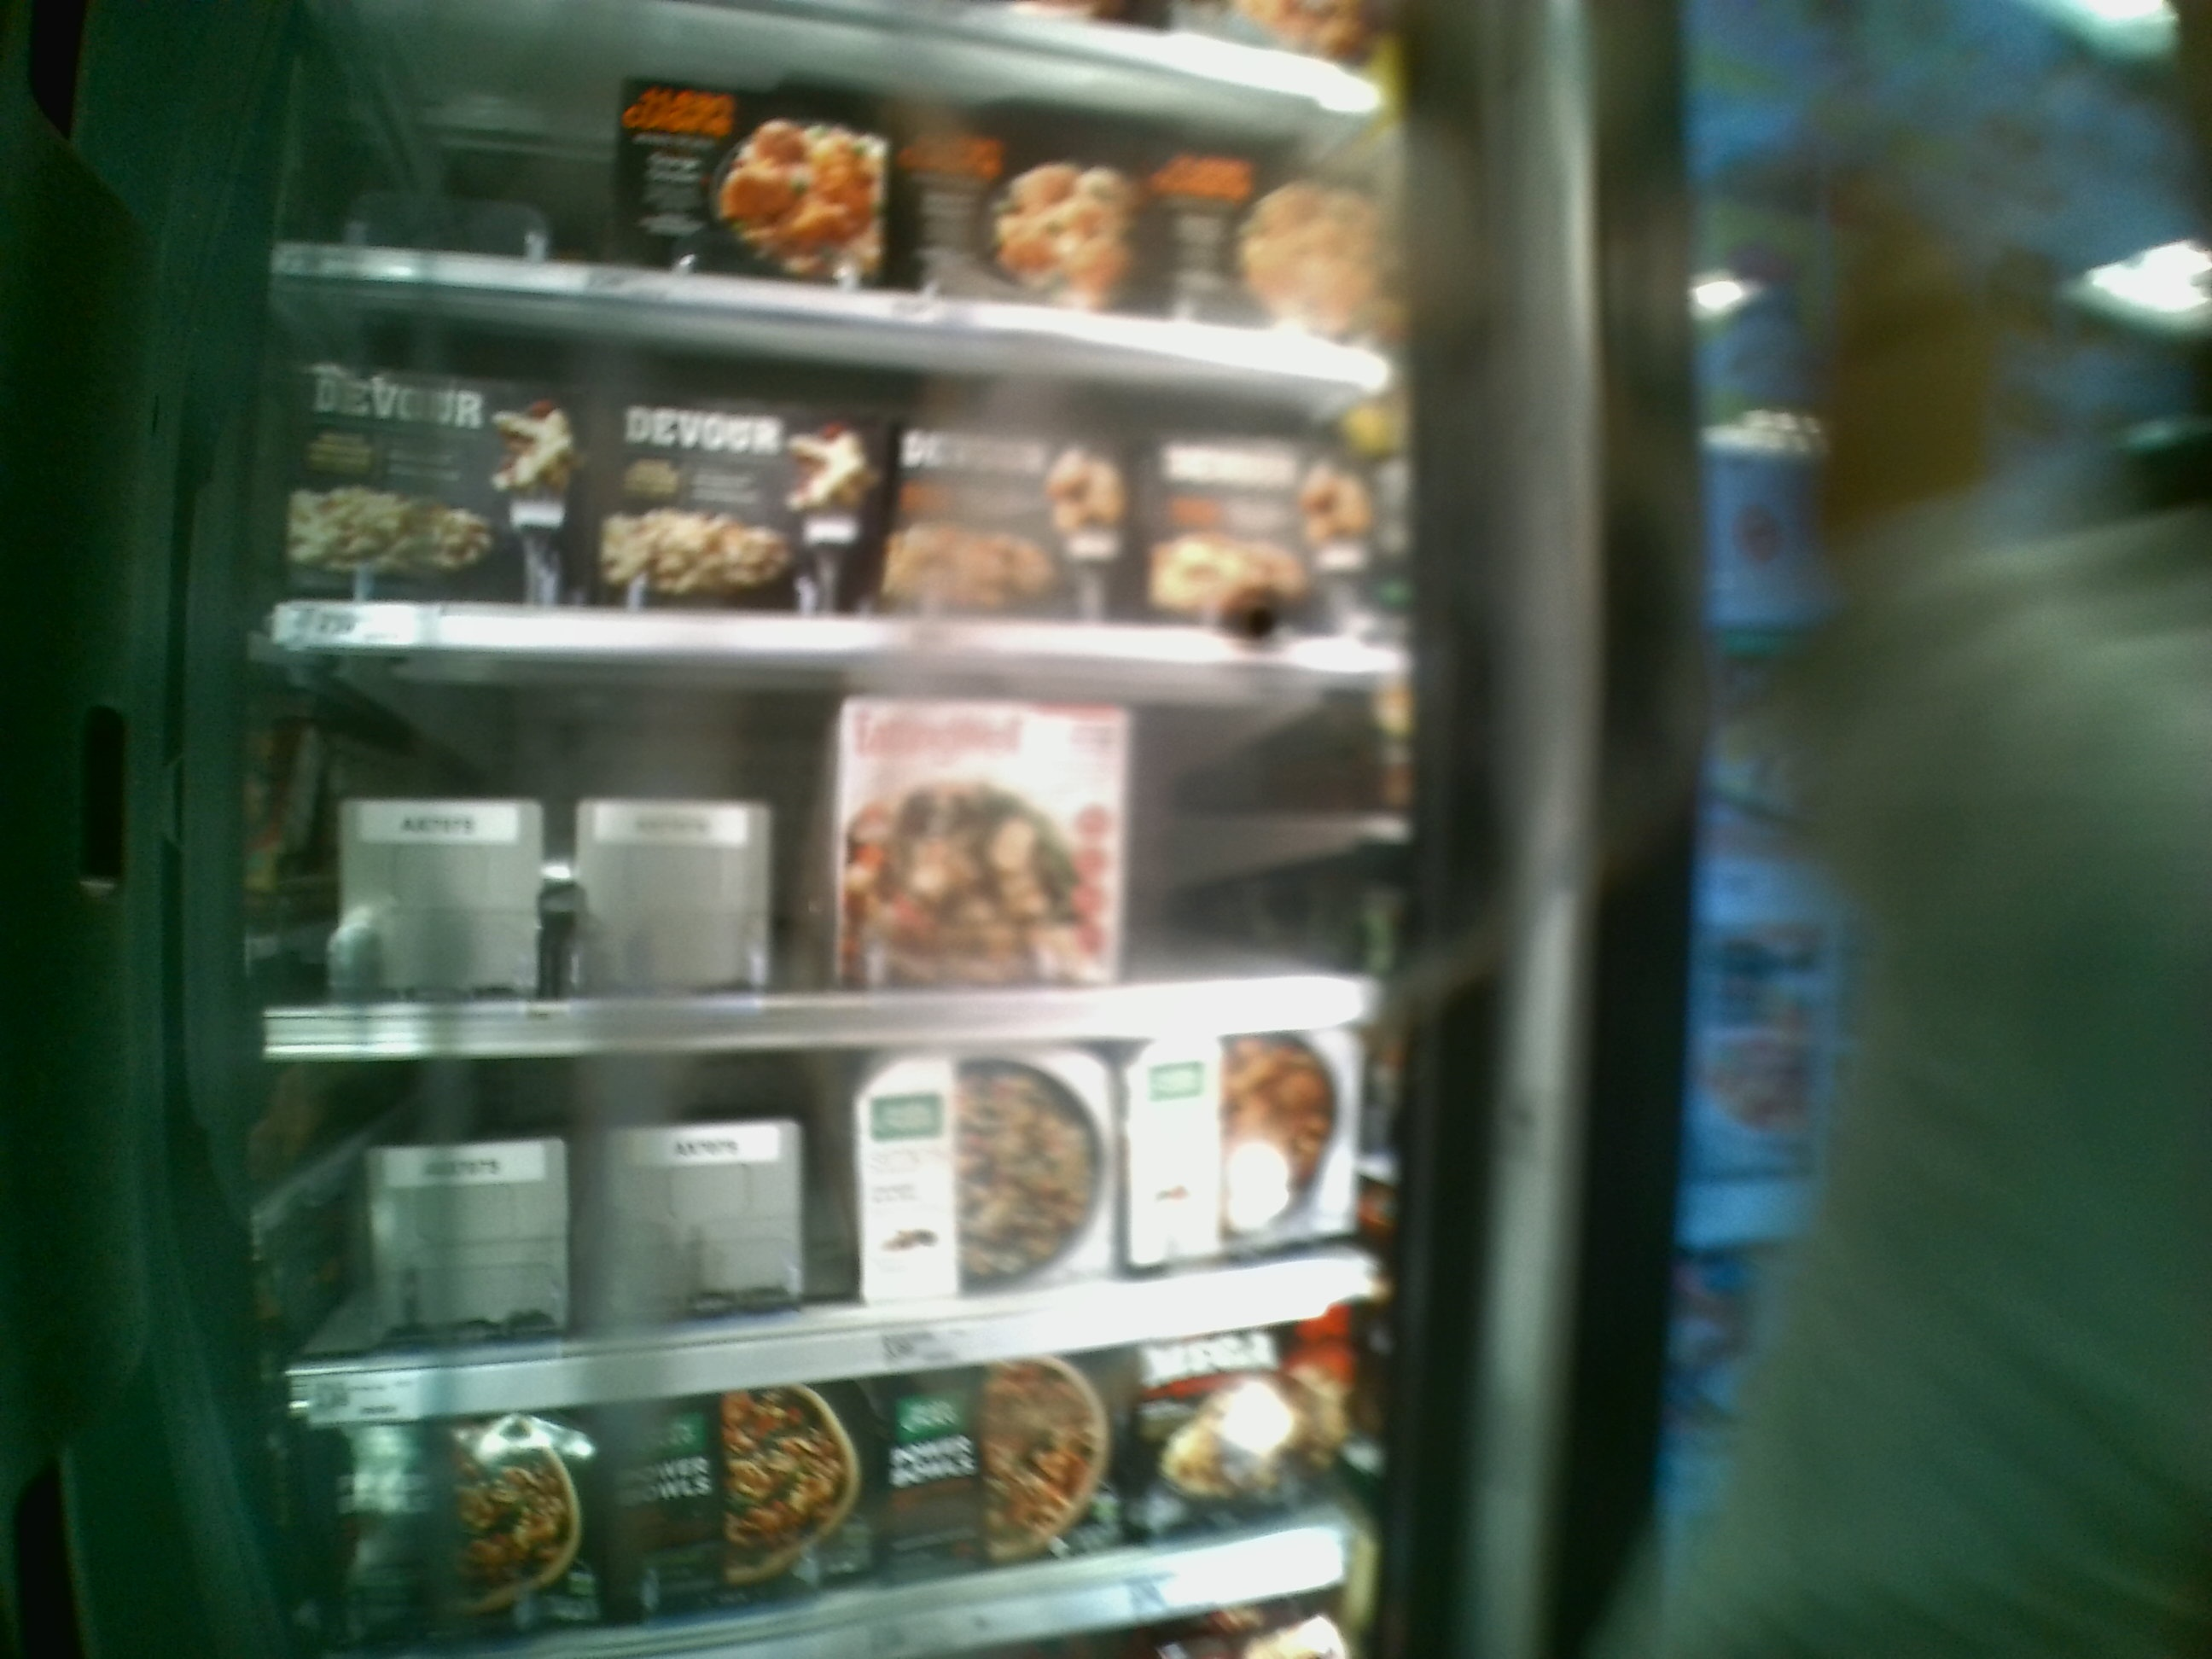Shelf: (244, 641, 1407, 1042), (261, 1023, 1390, 1410)
